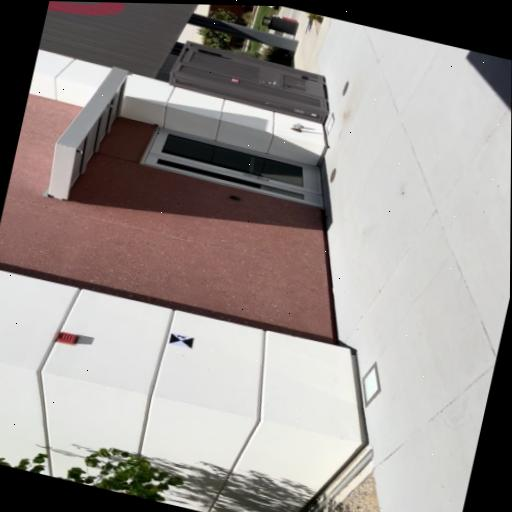target2: (168, 332, 193, 348)
